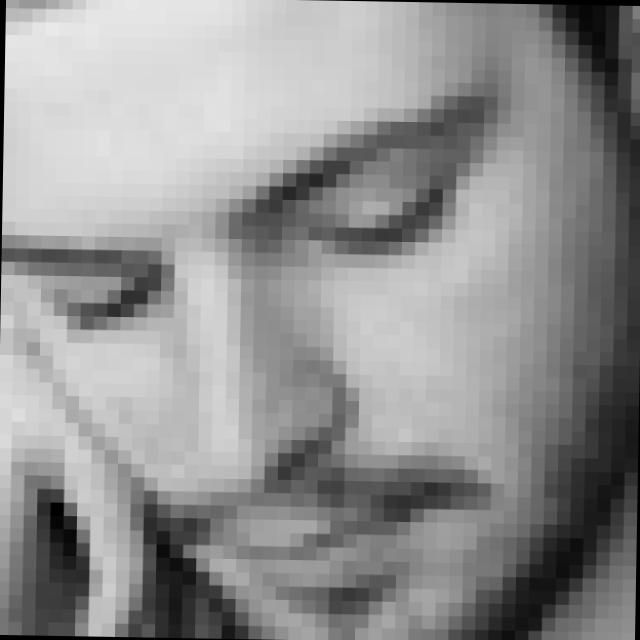sad: (0, 75, 516, 610)
